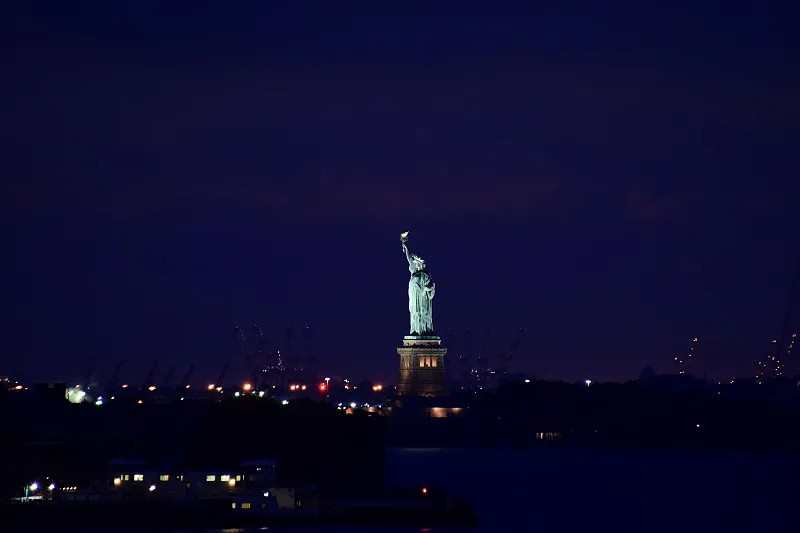SL: (396, 228, 448, 398)
